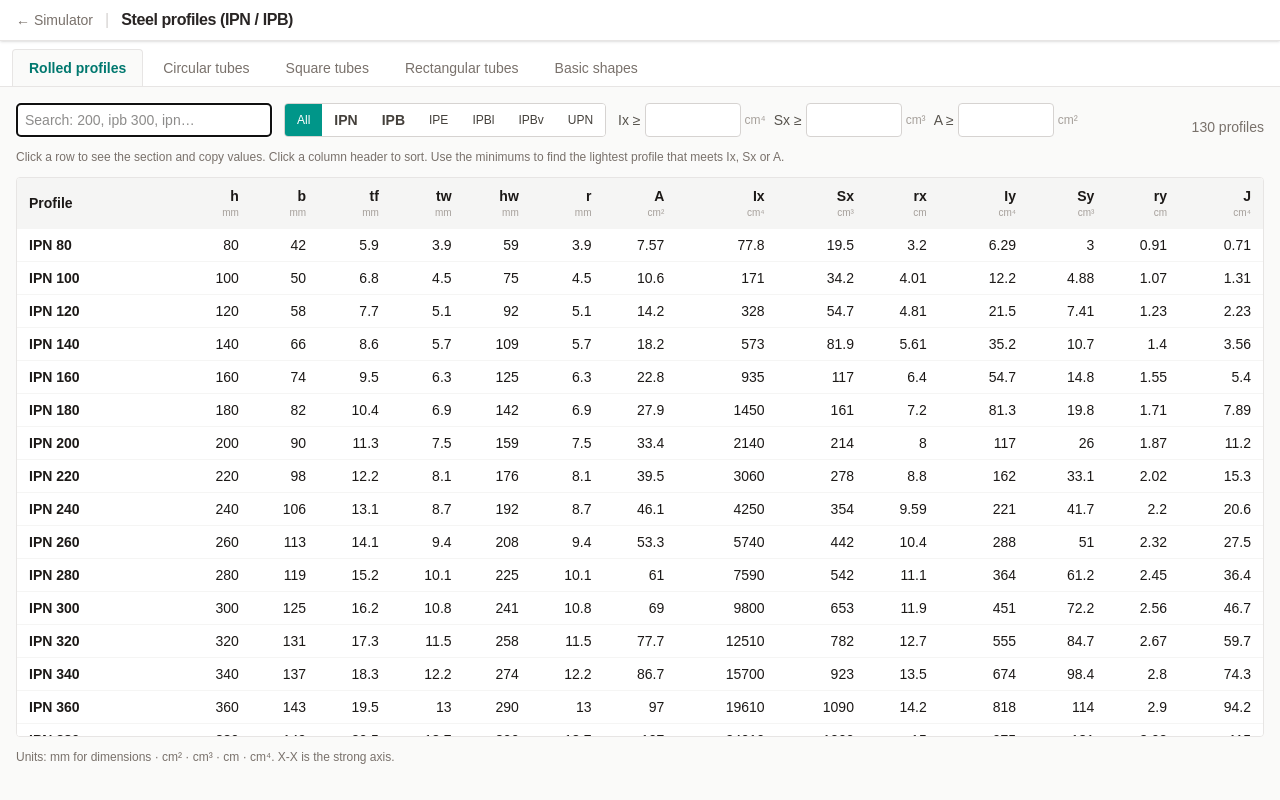
Test: ShapeExplorer › it is a tab of the profiles page
Click the tab "Basic shapes": (596,68) top-left (538, 49), bottom-right (654, 86)
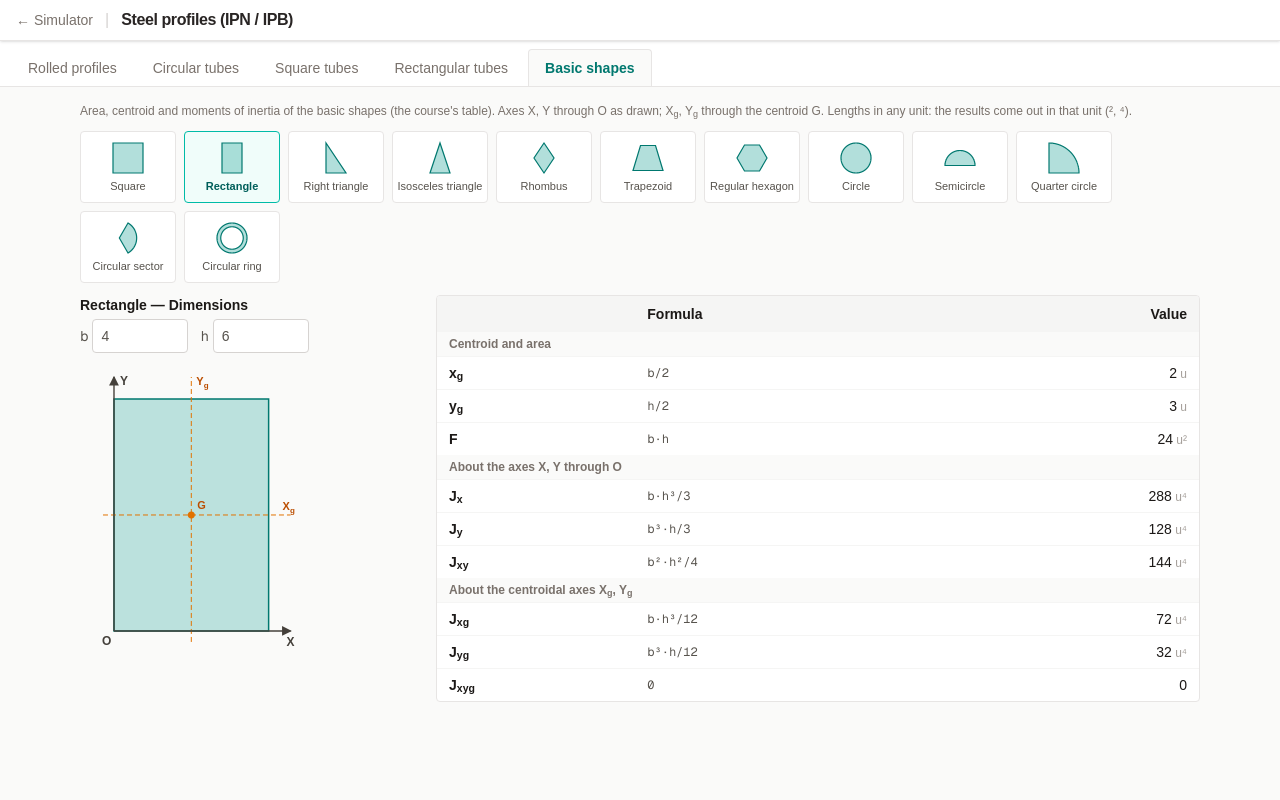
Expected: the element with test id "shape-explorer" is shown
